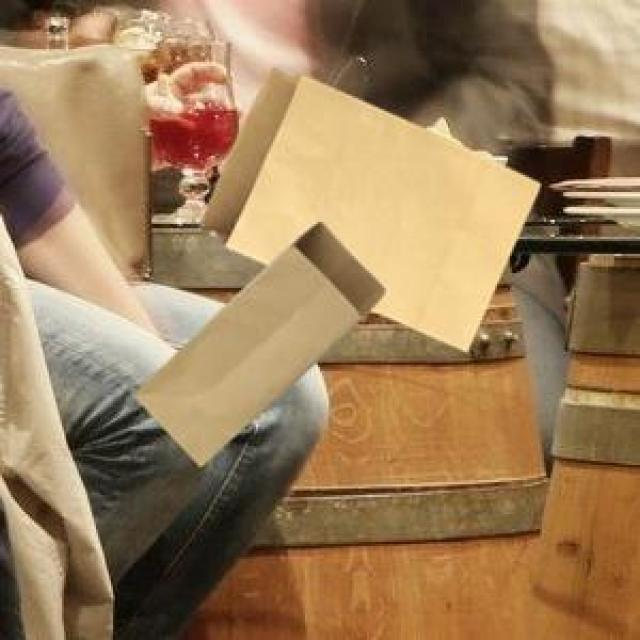paper: (196, 64, 536, 348), (130, 218, 380, 461)
